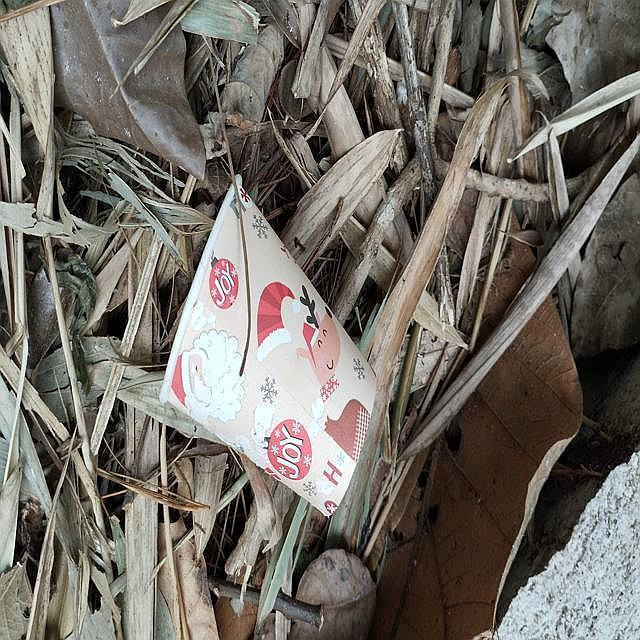Biodegradable: (147, 167, 387, 530)
